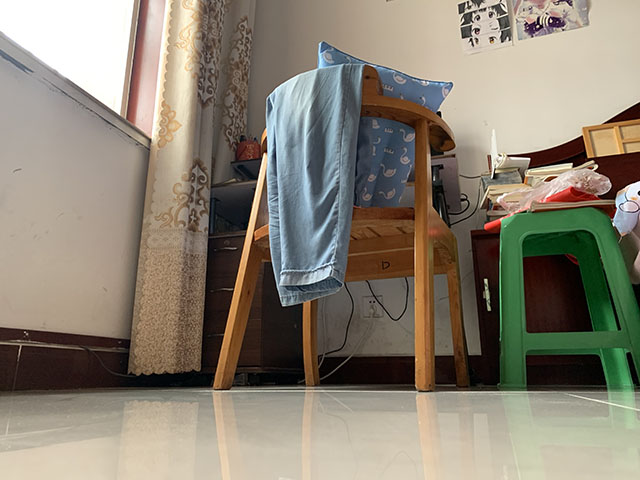curtain: (124, 1, 257, 376)
stool: (213, 62, 474, 393), (496, 206, 640, 391)
wire: (319, 276, 413, 385)
